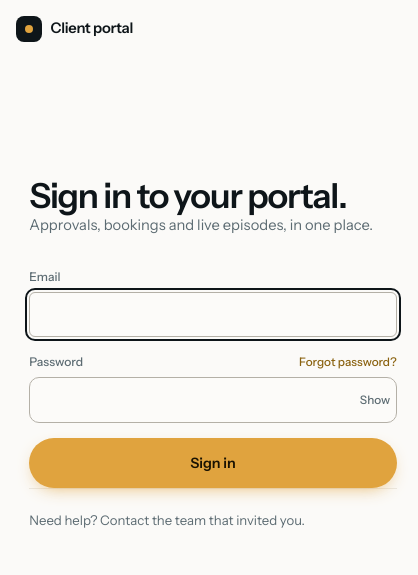
Test: PortalLogin refusals › marks only the empty field when something is missing
The image size is (418, 575).
Type "taylor@example.com" into the field labelled "Email" at (213,315), box x1=29 y1=292 x2=397 y2=337
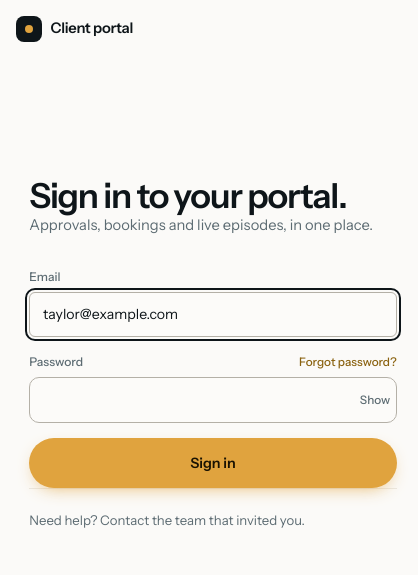
Click the button "Sign in" at (213,463), box x1=29 y1=438 x2=397 y2=488
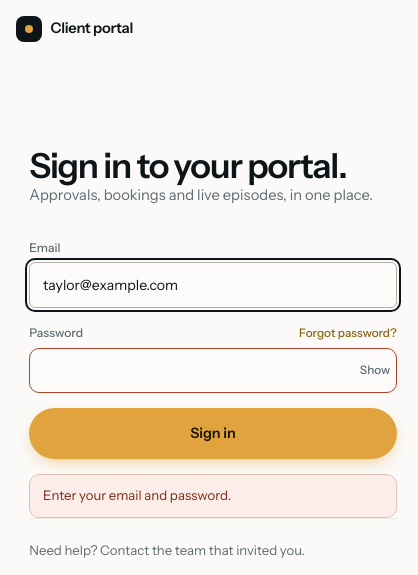
Result: the message reads "Enter your email and password." at x1=43 y1=487 x2=231 y2=503
